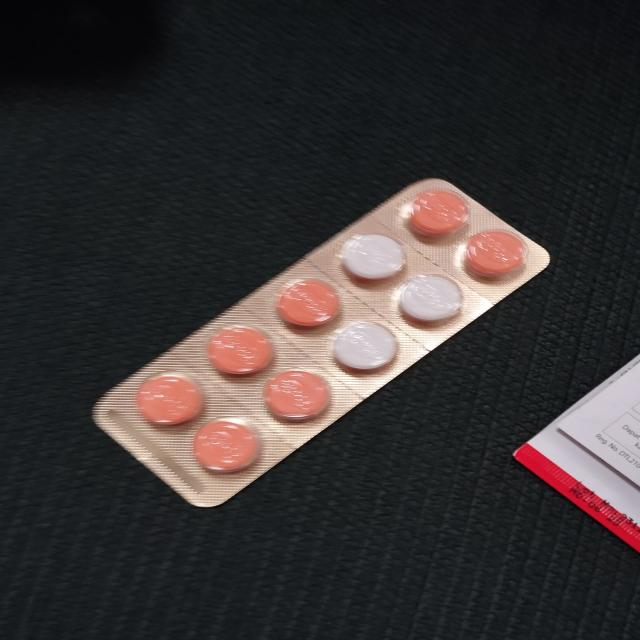B3: (94, 177, 550, 505)
